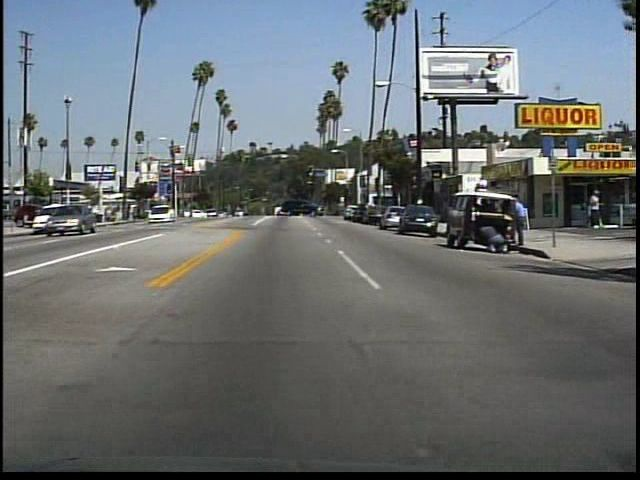person: (478, 222, 508, 258), (510, 195, 530, 247), (587, 187, 603, 234)
